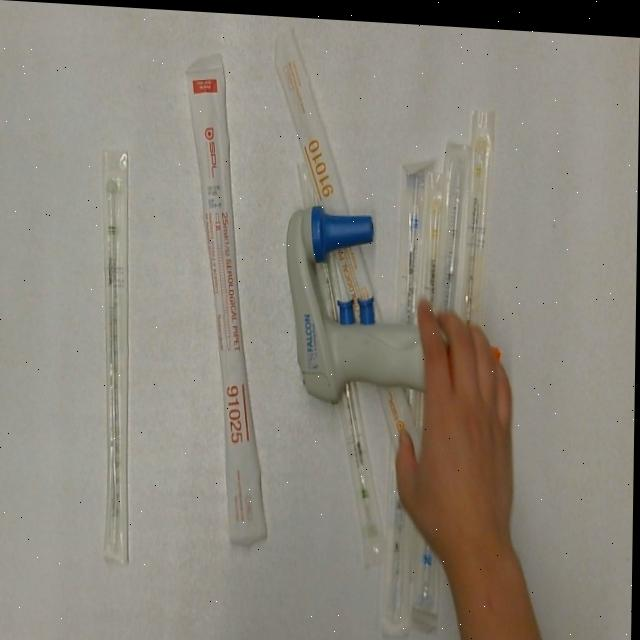Pipette Controller: (279, 202, 507, 411)
Serelogical Pipet 1 mL - Sealed: (443, 99, 502, 517), (412, 164, 453, 418)
Serelogical Pipet 10 mL - Sealed: (274, 15, 457, 507)
Serelogical Pipet 2 mL - Sealed: (281, 141, 401, 567), (99, 146, 138, 566)
Serelogical Pipet 25 mL - Sealed: (176, 44, 265, 546)
Serelogical Pipet 5 mL - Sealed: (414, 133, 474, 614), (382, 146, 434, 631)
